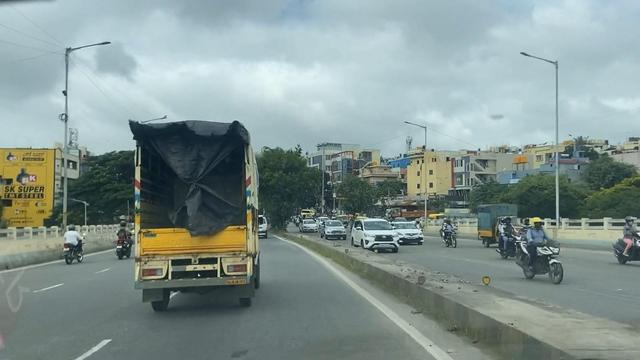HMV: (120, 100, 262, 315)
